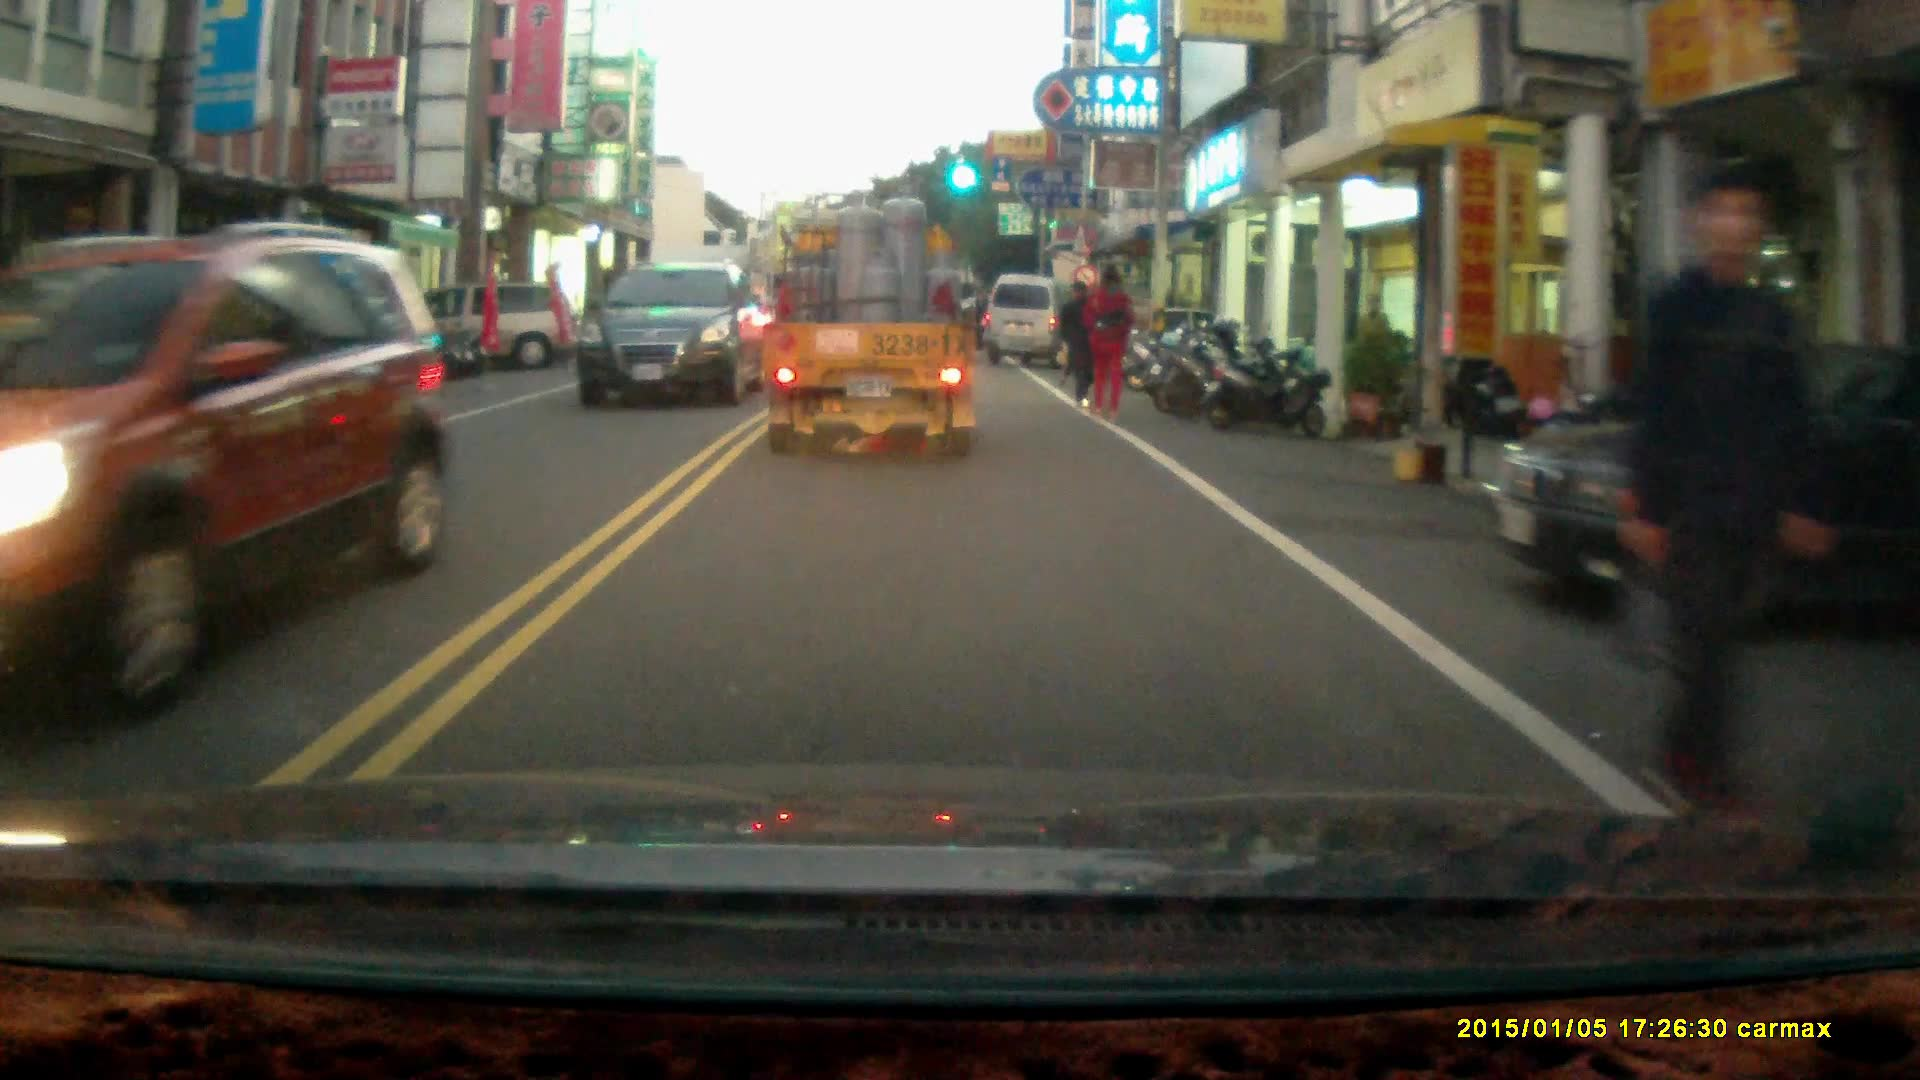pedestrian: (1614, 163, 1835, 846), (1086, 265, 1132, 418), (1060, 275, 1102, 406), (1354, 289, 1391, 387)
vehicle: (1, 223, 476, 697), (1475, 348, 1920, 633), (759, 182, 987, 469), (579, 261, 770, 411), (362, 277, 592, 372), (986, 269, 1079, 367)
